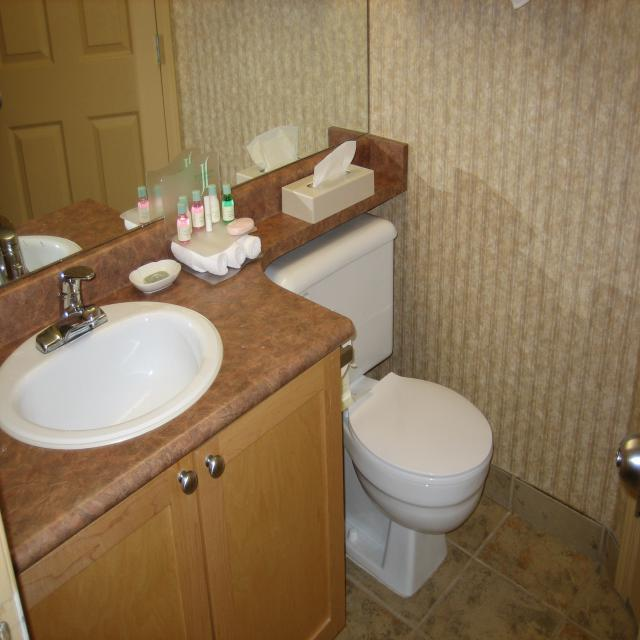faucet handle: (35, 264, 107, 353)
mirror crop: (0, 0, 370, 285)
soap bottle: (227, 217, 253, 236)
toilet bowl: (265, 212, 494, 599)
